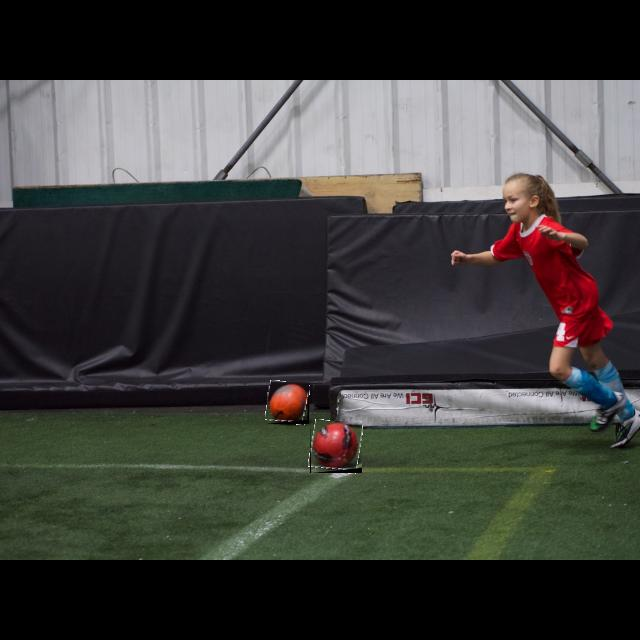Football: (310, 421, 362, 473), (267, 382, 309, 424)
